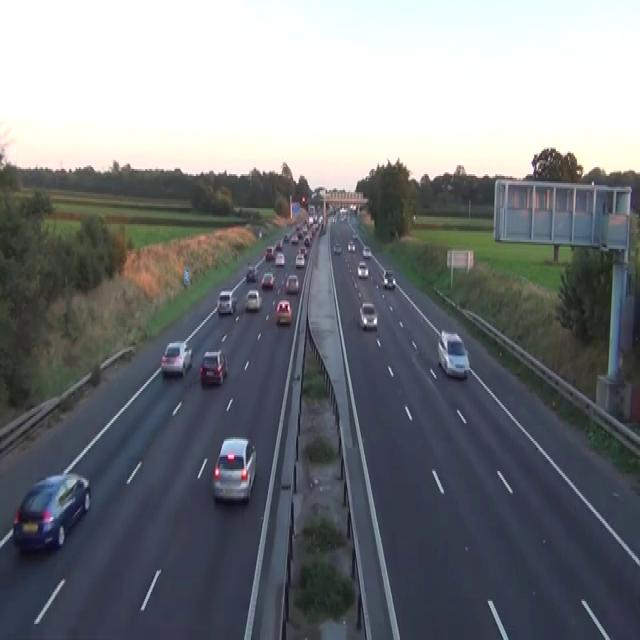Car: (12, 471, 91, 553), (212, 436, 256, 503), (437, 329, 470, 379), (160, 339, 192, 377), (199, 348, 228, 386), (358, 300, 377, 329), (217, 290, 237, 314), (275, 298, 292, 324), (245, 290, 262, 311), (260, 270, 275, 288), (285, 274, 299, 293), (383, 268, 395, 288), (357, 260, 368, 278), (246, 263, 257, 281), (274, 251, 285, 265), (441, 181, 454, 192), (295, 252, 304, 266), (265, 246, 274, 260), (362, 245, 371, 258), (298, 245, 307, 256), (333, 242, 341, 254), (347, 240, 355, 251), (274, 240, 282, 251), (290, 233, 298, 243), (304, 235, 310, 245), (349, 202, 356, 210), (297, 230, 304, 238), (283, 233, 289, 242), (310, 226, 316, 234), (321, 224, 326, 233), (308, 215, 313, 224), (318, 215, 323, 224), (295, 224, 301, 231), (352, 231, 357, 238), (331, 215, 336, 222), (258, 230, 262, 238), (301, 195, 305, 202)
